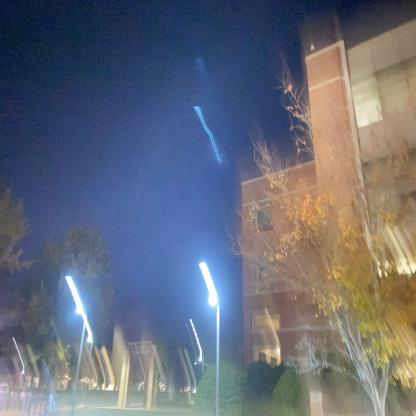eb2: (232, 36, 415, 366)
